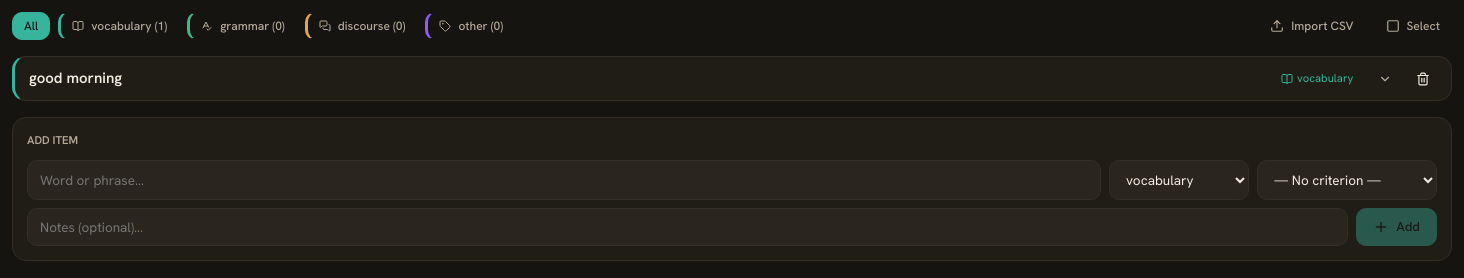
Test: VocabularyListEditor › exits selection mode via cancel
Click the button "Select" at (1413, 26), box 1374,12 -> 1452,40
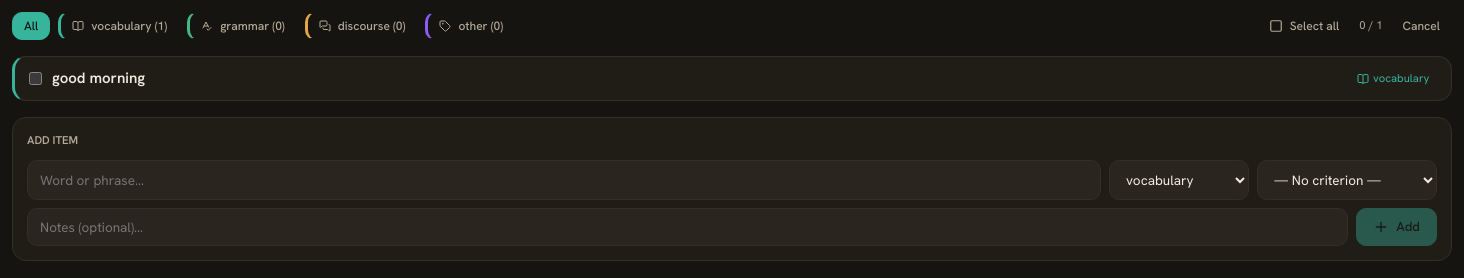
Expected: the text "0 / 1" is shown, 1359,17 -> 1382,35
Click the button "Cancel" at (1421, 26), box 1390,12 -> 1452,40
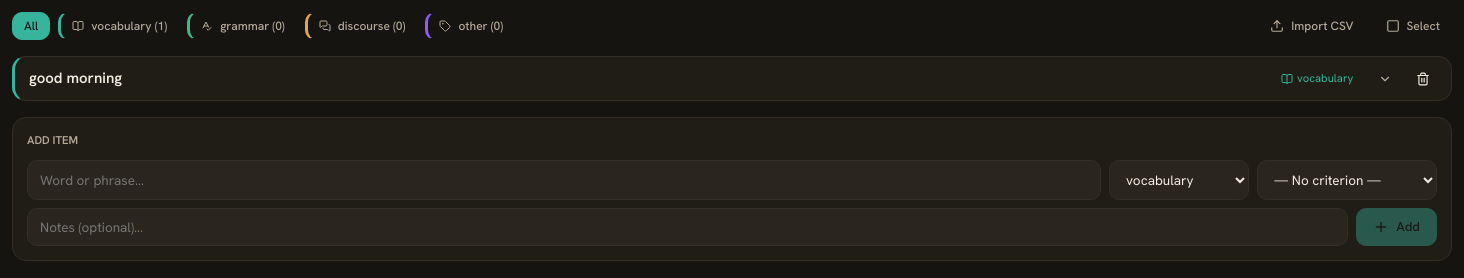
Expected: the text "0 / 1" is gone
